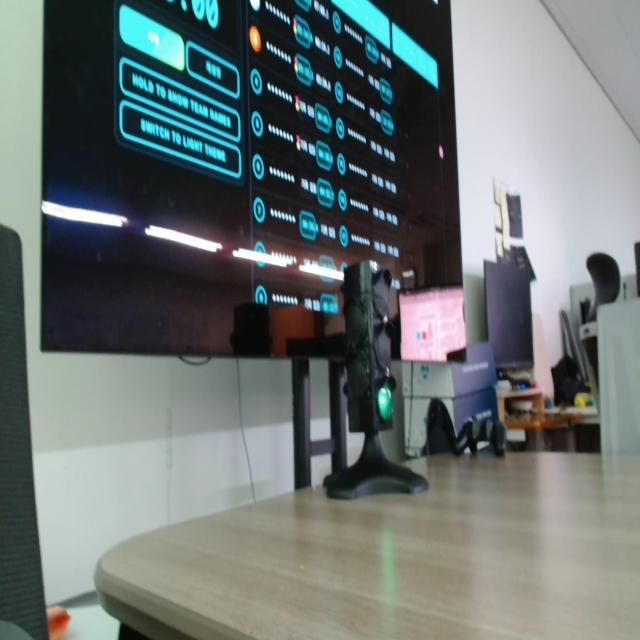green_light: (377, 385, 393, 423)
